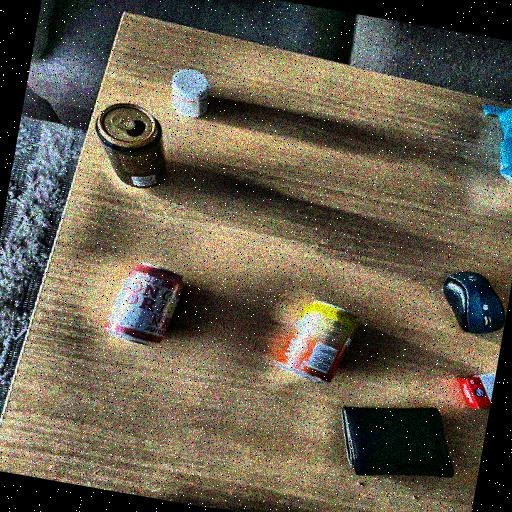karhu: (66, 95, 187, 202)
koff: (78, 242, 201, 348)
